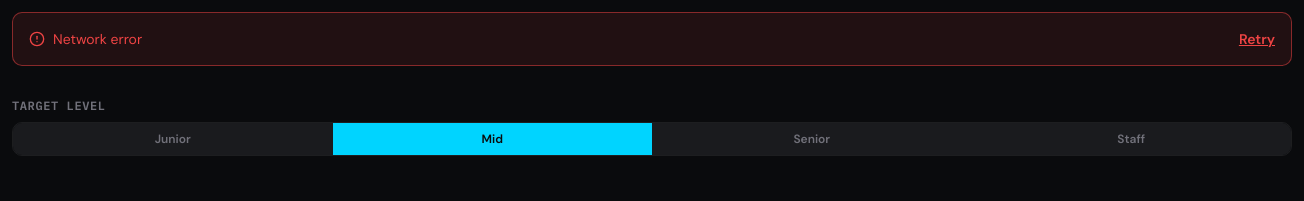
Test: RoleSelector › retries fetching roles when clicking Retry
Expected: the text "Network error" is shown, [53,30,142,48]
Click the button "Retry" at (1257, 39), box [1239,29,1275,49]
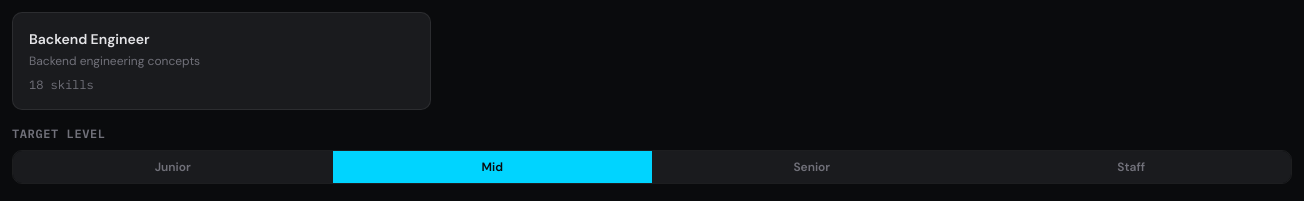
Result: the heading "Backend Engineer" is shown at [29,30,150,48]
Result: the text "Network error" is gone
